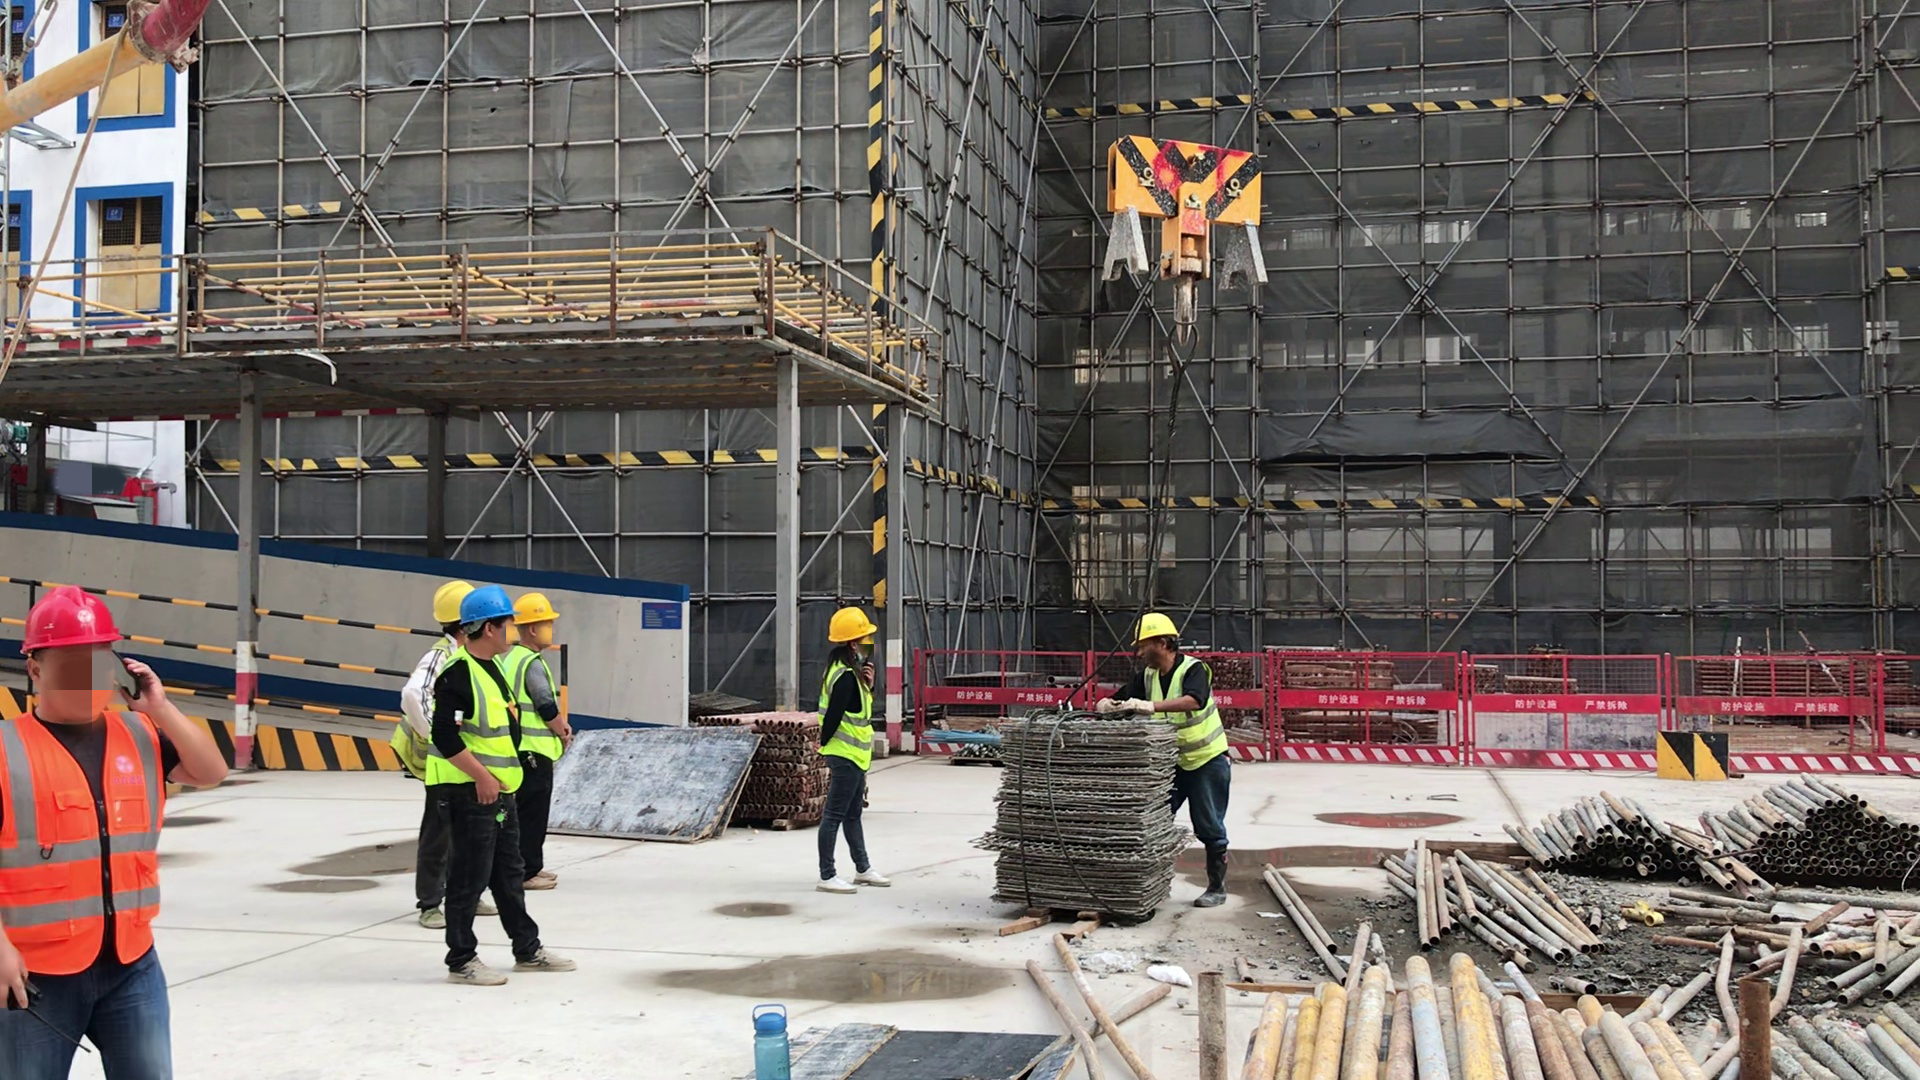fence: (916, 654, 1920, 778)
helmet: (21, 592, 120, 651), (824, 603, 877, 645), (459, 587, 515, 618), (506, 593, 561, 627), (1132, 610, 1185, 643), (429, 583, 471, 623)
hook: (1098, 137, 1271, 345)
person: (1, 588, 233, 1079), (426, 585, 581, 985), (1097, 609, 1230, 910), (390, 581, 499, 925), (814, 606, 890, 894), (503, 591, 572, 892)
scaffold: (1001, 719, 1177, 916), (758, 715, 819, 829)
vest: (2, 710, 166, 973), (433, 647, 527, 791), (1144, 658, 1231, 769), (502, 653, 566, 760), (819, 658, 874, 769)
